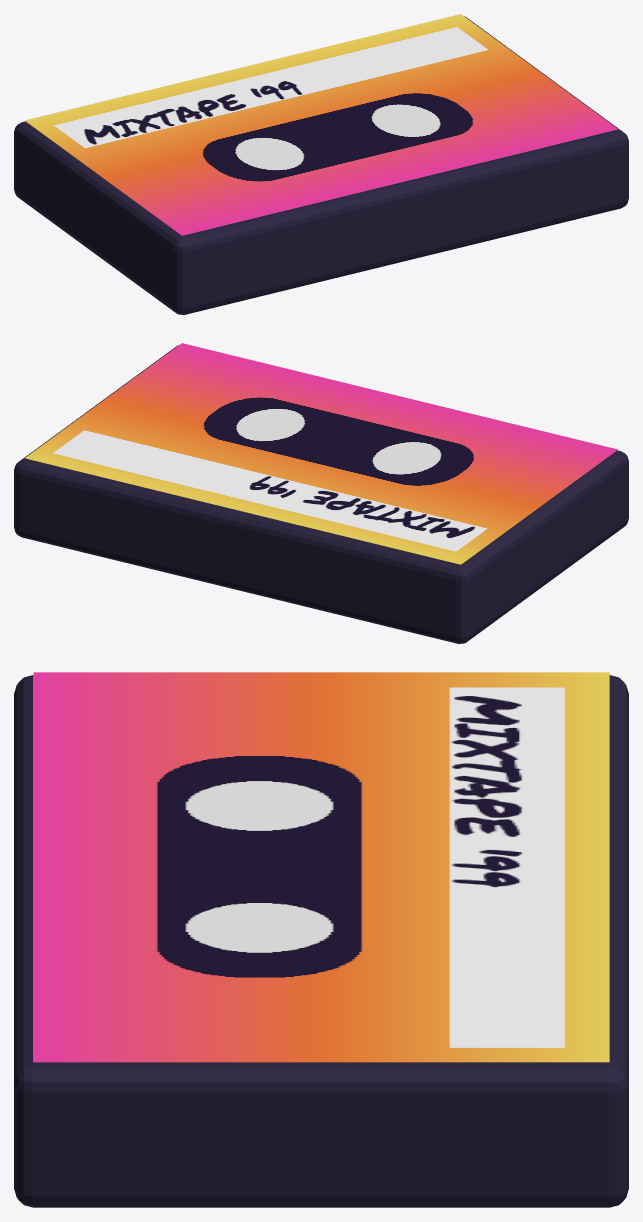
The model's file is Trash_Cassette.fbx.
3 renders of one model, top to bottom at view 1: azimuth 30°, elevation 25°; view 2: azimuth 150°, elevation 25°; view 3: azimuth 270°, elevation 25°, orthographic. The views are drawn at different scales.
Parts seen in each view (by area): view 1: Trash_Cassette; view 2: Trash_Cassette; view 3: Trash_Cassette.
Boxes of the visible parts, x1,y1,x2,y2 form: Trash_Cassette: (14,14,628,314); Trash_Cassette: (14,343,628,643); Trash_Cassette: (14,672,628,1207).
Size of the model in its own units: 0.1 by 0.0165 by 0.064.
Materials: 2 (1 with a texture image).
